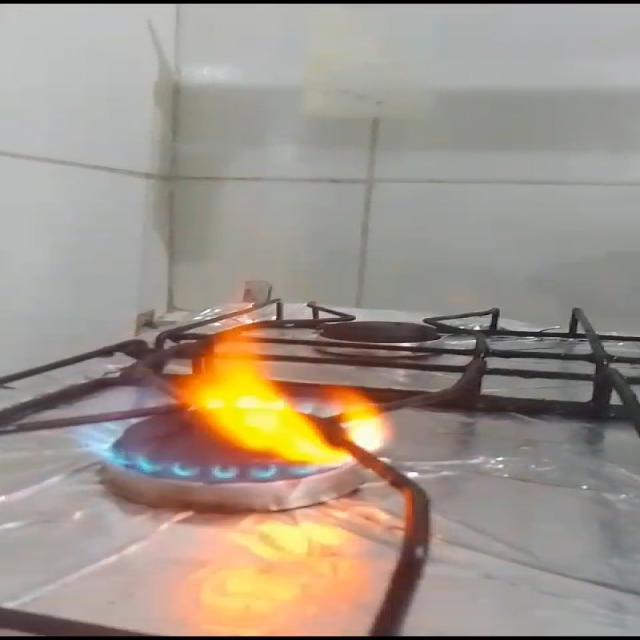fogo-ypXI: (65, 274, 398, 486)
